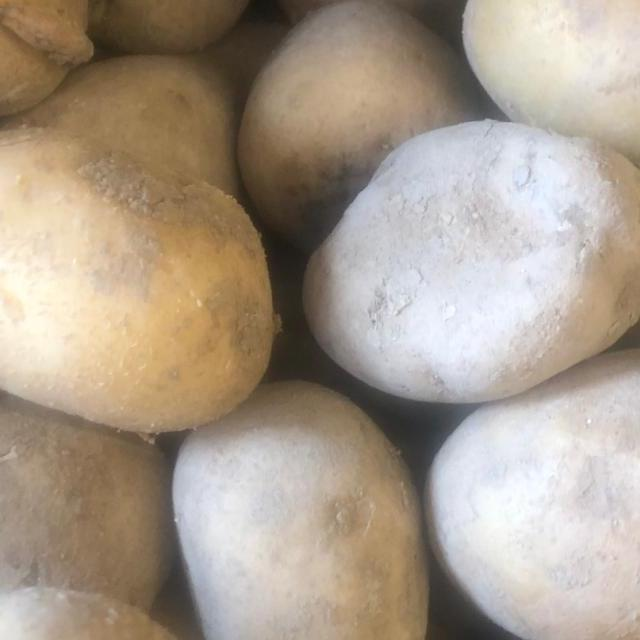potato: (290, 102, 640, 425), (0, 110, 285, 445), (165, 345, 450, 640), (425, 345, 640, 640), (457, 0, 640, 190), (17, 0, 285, 70)
